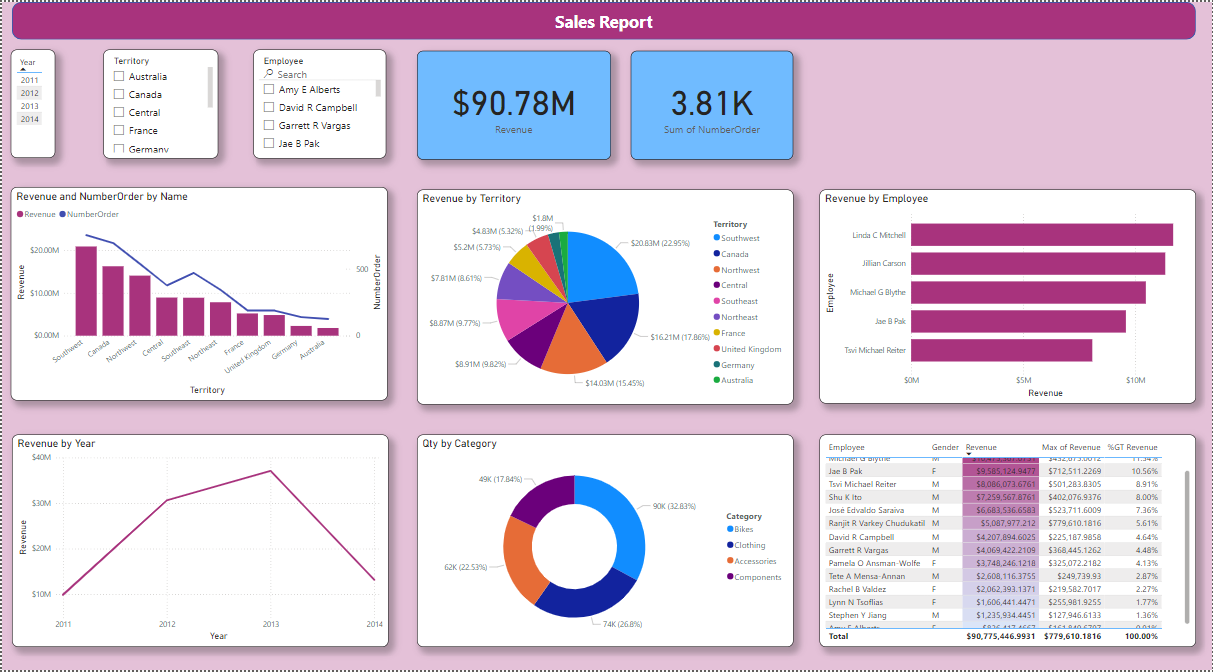

What the dashboard file says about the page in this screenshot:
{"tool":"powerbi","page":{"name":"Sales","canvas":[1935,1070],"ordinal":0},"visuals":[{"type":"shape","box":[16,0,1894,60],"z":0},{"type":"tableEx","fields":{"Values":["Dim_Year.Year"]},"box":[13.8,76.2,71.2,173.8],"z":1000},{"type":"slicer","fields":{"Values":["Dim_Territory.Name"]},"box":[161.4,75.7,184.3,174.3],"z":2000},{"type":"slicer","fields":{"Values":["Dim_SalesPerson.FullName"]},"box":[402.9,75.7,212.9,174.3],"z":3000},{"type":"card","fields":{"Values":["Sum(Fact_SalesOrder.Revenue)"]},"box":[664,78,310,174],"z":4000},{"type":"card","fields":{"Values":["Sum(Fact_SalesOrder.NumberOrder)"]},"box":[1006,78,260,174],"z":5000},{"type":"lineStackedColumnComboChart","title":"Revenue and NumberOrder by Name","fields":{"Category":["Dim_Territory.Name"],"Y":["Sum(Fact_SalesOrder.Revenue)"],"Y2":["Sum(Fact_SalesOrder.NumberOrder)"]},"box":[13.3,296.7,603.3,341.7],"z":6000},{"type":"lineChart","fields":{"Y":["Sum(Fact_SalesOrder.Revenue)"],"Category":["Dim_Year.Year"]},"box":[16,692,602,340],"z":7000},{"type":"pieChart","fields":{"Category":["Dim_Territory.Name"],"Y":["Sum(Fact_SalesOrder.Revenue)"]},"box":[664,300,602,344],"z":8000},{"type":"donutChart","fields":{"Category":["Dim_ProductCategory.Name"],"Y":["Sum(Fact_Product.Qty)"]},"box":[664,692,602,340],"z":9000},{"type":"clusteredBarChart","fields":{"Y":["Sum(Fact_SalesOrder.Revenue)"],"Category":["Dim_SalesPerson.FullName"]},"box":[1308,300,602,342],"z":10000},{"type":"tableEx","fields":{"Values":["Dim_SalesPerson.FullName","Dim_SalesPerson.Gender","Sum(Fact_SalesOrder.Revenue)","Max(Fact_SalesOrder.Revenue)","Divide(Sum(Fact_SalesOrder.Revenue), ScopedEval(Sum(Fact_SalesOrder.Revenue), []))"]},"box":[1308,692,602,340],"z":11000}]}

Visuals, with their boxes in screenshot pixels (x1, y1, x2, y2), scaled from the page's 1935x1070 canvas onto the 1213x672 screenshot:
shape: <bbox>10, 0, 1197, 38</bbox>
tableEx - Dim_Year.Year: <bbox>9, 48, 53, 157</bbox>
slicer - Dim_Territory.Name: <bbox>101, 48, 217, 157</bbox>
slicer - Dim_SalesPerson.FullName: <bbox>253, 48, 386, 157</bbox>
card - Sum(Fact_SalesOrder.Revenue): <bbox>416, 49, 611, 158</bbox>
card - Sum(Fact_SalesOrder.NumberOrder): <bbox>631, 49, 794, 158</bbox>
"Revenue and NumberOrder by Name" lineStackedColumnComboChart: <bbox>8, 186, 387, 401</bbox>
lineChart - Sum(Fact_SalesOrder.Revenue) x Dim_Year.Year: <bbox>10, 435, 387, 648</bbox>
pieChart - Dim_Territory.Name x Sum(Fact_SalesOrder.Revenue): <bbox>416, 188, 794, 404</bbox>
donutChart - Dim_ProductCategory.Name x Sum(Fact_Product.Qty): <bbox>416, 435, 794, 648</bbox>
clusteredBarChart - Sum(Fact_SalesOrder.Revenue) x Dim_SalesPerson.FullName: <bbox>820, 188, 1197, 403</bbox>
tableEx - Dim_SalesPerson.FullName x Dim_SalesPerson.Gender: <bbox>820, 435, 1197, 648</bbox>
